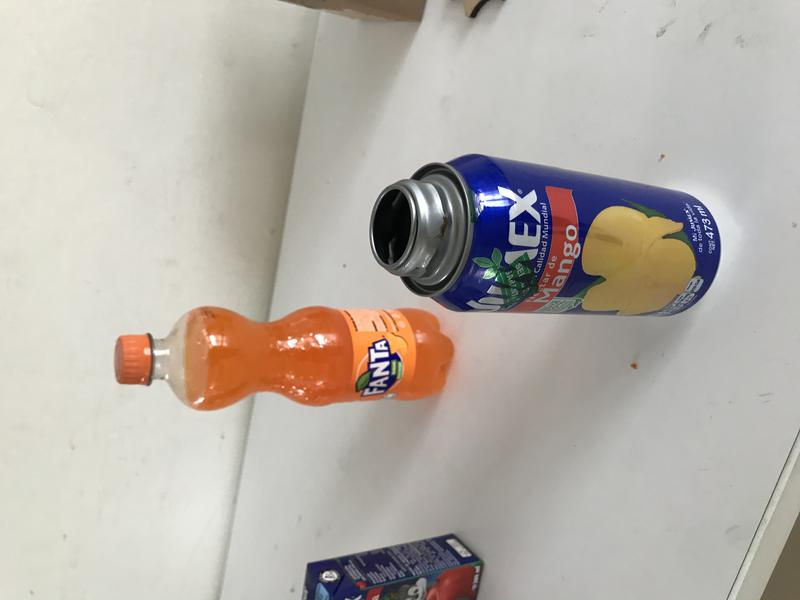fanta: (113, 306, 456, 412)
jumex_botella: (368, 154, 721, 317)
jumex_cajita: (302, 533, 487, 600)
